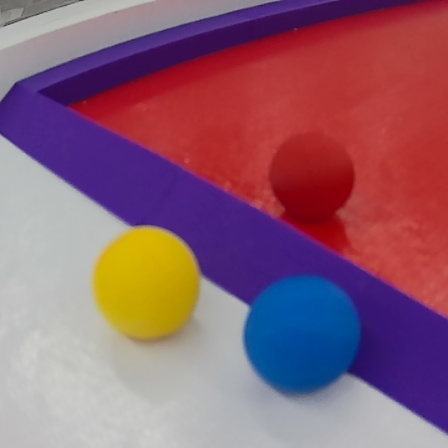blue: (243, 271, 360, 395)
red: (269, 129, 359, 224)
red_aim: (1, 4, 448, 438)
yellow: (89, 225, 203, 346)
